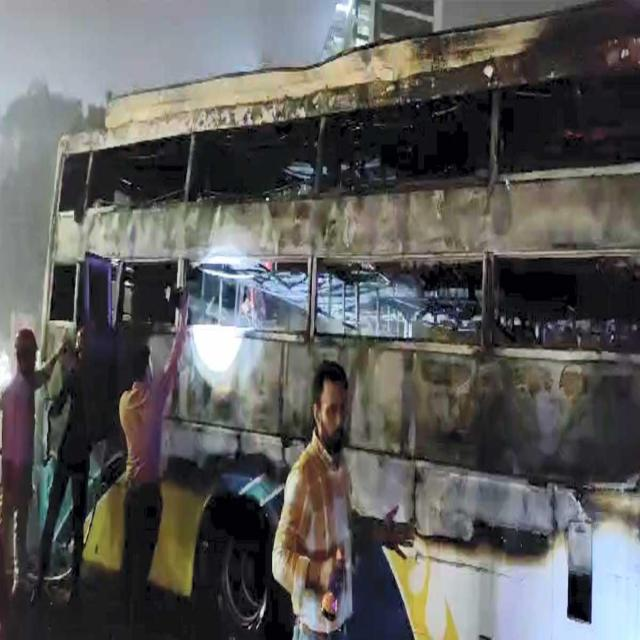accident: (42, 0, 640, 637)
